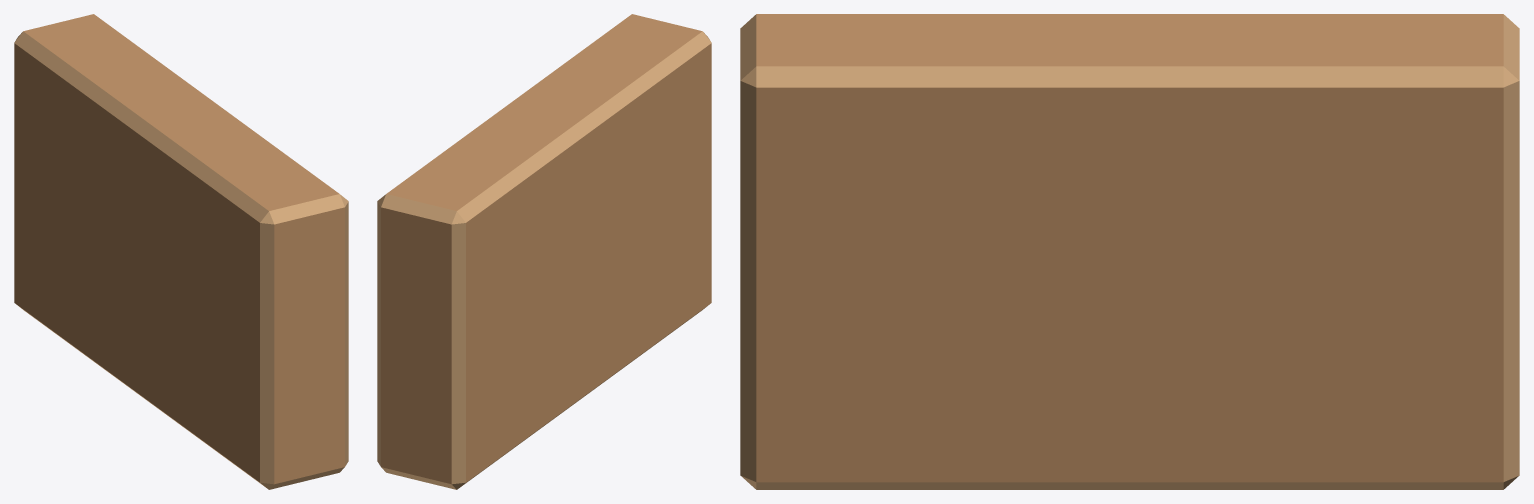
The model's file is Wall_E_3_1.fbx.
The picture shows the model from 3 angles, left to right: view 1: azimuth 30°, elevation 25°; view 2: azimuth 150°, elevation 25°; view 3: azimuth 270°, elevation 25°; orthographic projection. The views are drawn at different scales.
Visible parts, largest first — view 1: Wall_E_3_1; view 2: Wall_E_3_1; view 3: Wall_E_3_1.
Boxes of the visible parts, x1,y1,x2,y2 form: Wall_E_3_1: (14,14,348,489); Wall_E_3_1: (377,14,711,489); Wall_E_3_1: (740,14,1519,489).
Size of the model in its own units: 40 by 120 by 200.
